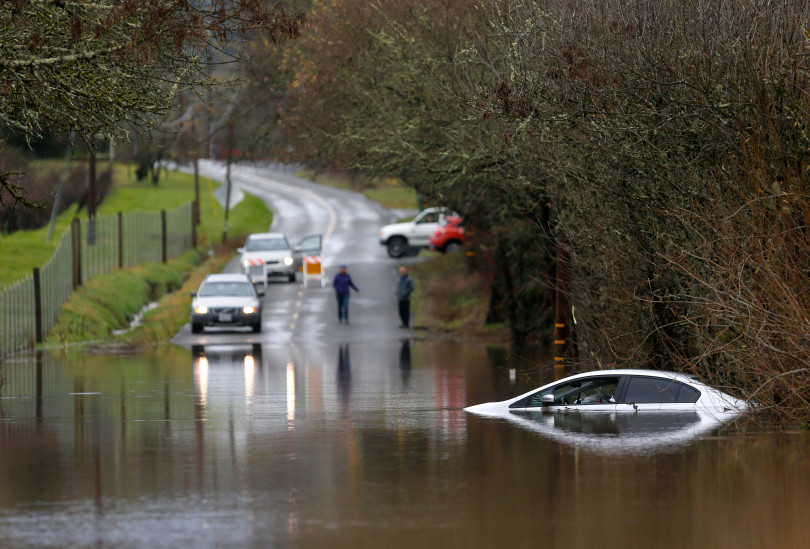dog: (391, 258, 420, 326)
person: (329, 259, 357, 326)
water: (9, 341, 464, 549), (463, 413, 807, 546)
